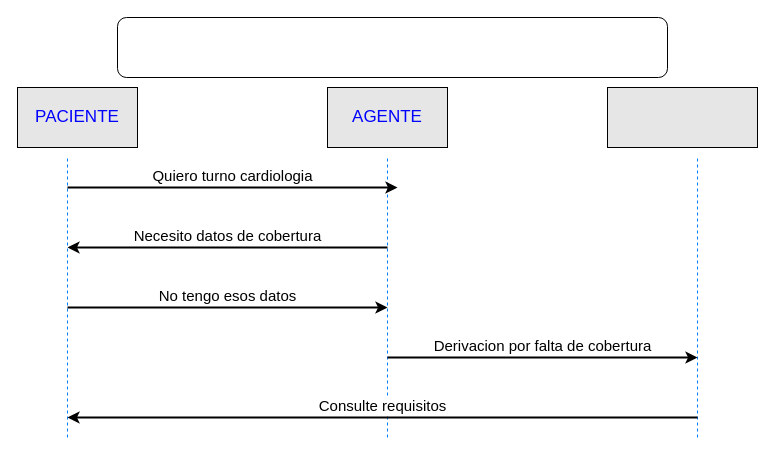
This 775x456 diagram has some shape labels left out. Here are the shapes that lost their labels. From the top down, the centre of each, then its label:
(392,47): DIAGRAMA DE SECUENCIA - SOLICITUD DE TURNO ALTERNATIVA
(682,117): ADMINISTRATIVO
